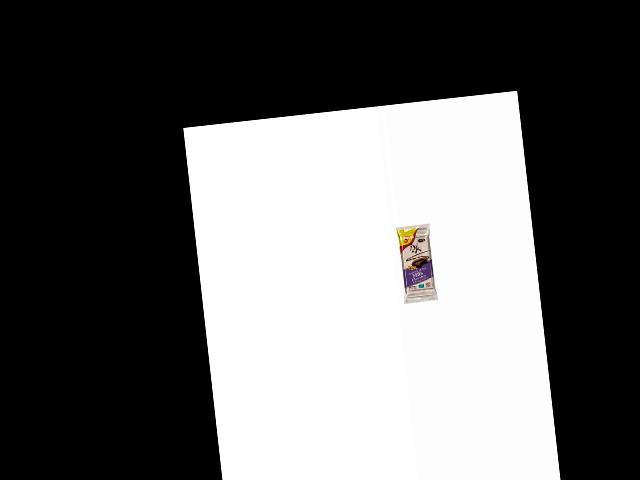chocolate: (393, 221, 441, 304)
